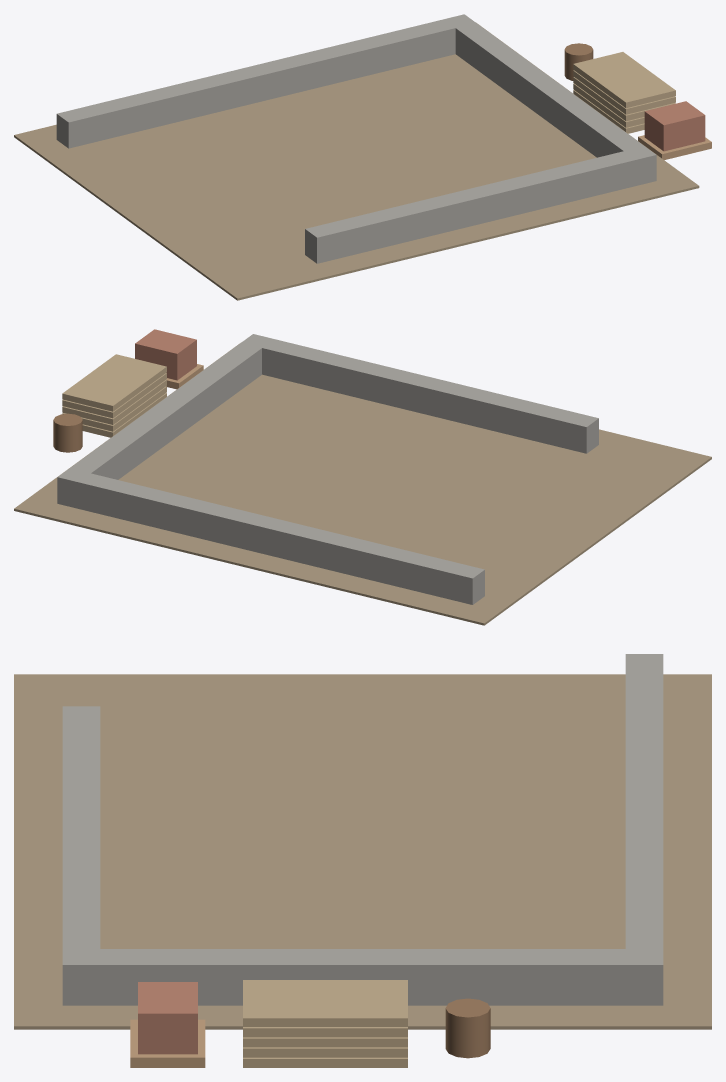
File: winery_site_2.glb
The picture shows the model from 3 angles, top to bottom: view 1: azimuth 30°, elevation 25°; view 2: azimuth 150°, elevation 25°; view 3: azimuth 270°, elevation 25°; orthographic projection. The views are drawn at different scales.
Visible parts, largest first — view 1: body; view 2: body; view 3: body.
Boxes of the visible parts, bbox=[...] form: body: bbox=[14, 14, 711, 300]; body: bbox=[14, 329, 711, 625]; body: bbox=[14, 654, 711, 1067].
Bounding box in the file's own units: 2.46 × 0.15 × 1.86.
